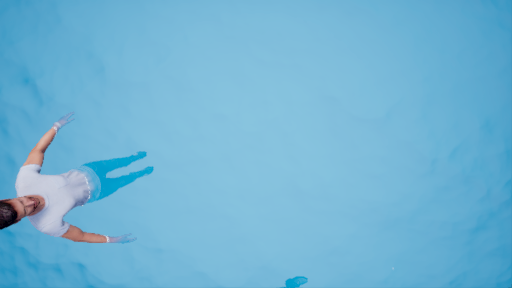person: (2, 113, 154, 249)
